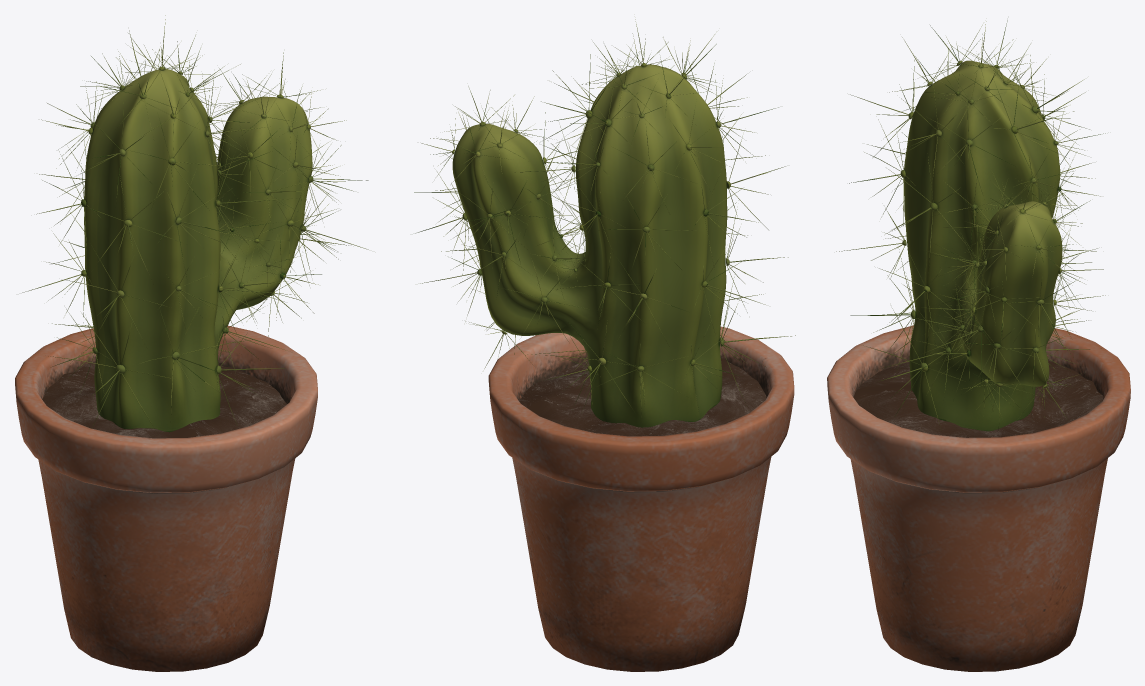
File: CactusPlant.fbx
The picture shows the model from 3 angles, left to right: view 1: azimuth 30°, elevation 25°; view 2: azimuth 150°, elevation 25°; view 3: azimuth 270°, elevation 25°; orthographic projection.
Visible parts, largest first — view 1: Cactus; view 2: Cactus; view 3: Cactus.
Boxes of the visible parts, box(x1,y1,x2,y2) form: Cactus: box(15, 15, 368, 671); Cactus: box(414, 19, 795, 671); Cactus: box(827, 20, 1130, 671).
Size of the model in its own units: 0.4509 by 0.3286 by 0.7395.
3 materials, 3 textured.
